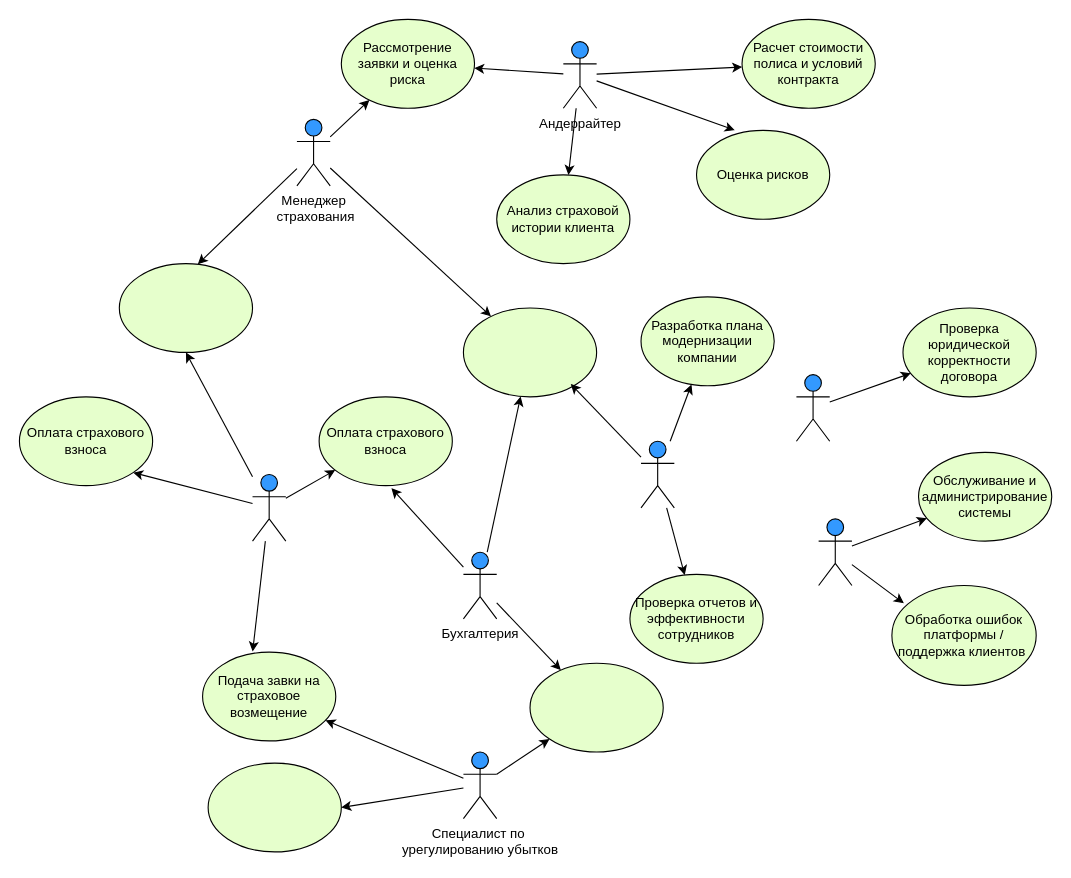
Some shapes in this 1071 by 878 pixel diagram are drawn without their labels. Here are the shapes that lost their labels. From the top down, the centre of each, then its label:
point (185, 307): Подача заявки и оформление полиса
point (529, 352): Генерация финансовых и аналитических отчетов
point (812, 407): Юрист
point (657, 474): Руководство
point (268, 507): Клиент
point (835, 552): IT- специалист
point (596, 707): Выплата компенсации / отклонение заявки
point (274, 807): Регистрация страховых случаев и оценка ущерба
